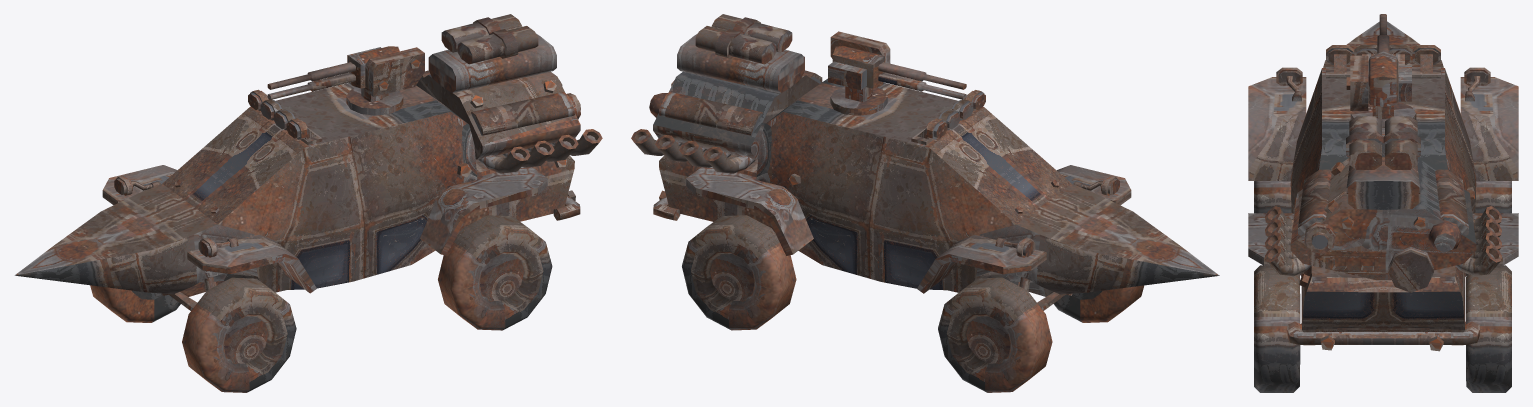
File: ScoutBuggy.fbx
3 views of the same model, side by side, from view 1: azimuth 30°, elevation 25°; view 2: azimuth 150°, elevation 25°; view 3: azimuth 270°, elevation 25° (orthographic). The views are drawn at different scales.
Visible parts, largest first — view 1: ScoutBuggy_Body, ScoutBuggy_Wheel_FrontL, ScoutBuggy_Wheel_BackL, ScoutBuggy_Turret, ScoutBuggy_Wheel_FrontR; view 2: ScoutBuggy_Body, ScoutBuggy_Wheel_FrontR, ScoutBuggy_Wheel_BackR, ScoutBuggy_Turret, ScoutBuggy_Wheel_FrontL; view 3: ScoutBuggy_Body, ScoutBuggy_Wheel_BackL, ScoutBuggy_Wheel_BackR, ScoutBuggy_Turret, ScoutBuggy_Wheel_FrontL, ScoutBuggy_Wheel_FrontR.
Boxes of the visible parts, bbox=[...] form: ScoutBuggy_Body: bbox=[14, 14, 602, 310]; ScoutBuggy_Wheel_FrontL: bbox=[182, 277, 296, 392]; ScoutBuggy_Wheel_BackL: bbox=[438, 215, 552, 330]; ScoutBuggy_Turret: bbox=[267, 46, 424, 115]; ScoutBuggy_Wheel_FrontR: bbox=[90, 285, 180, 322]; ScoutBuggy_Body: bbox=[631, 14, 1219, 310]; ScoutBuggy_Wheel_FrontR: bbox=[938, 277, 1052, 392]; ScoutBuggy_Wheel_BackR: bbox=[682, 215, 796, 330]; ScoutBuggy_Turret: bbox=[828, 31, 966, 115]; ScoutBuggy_Wheel_FrontL: bbox=[1053, 285, 1144, 322]; ScoutBuggy_Body: bbox=[1248, 21, 1518, 351]; ScoutBuggy_Wheel_BackL: bbox=[1254, 265, 1300, 392]; ScoutBuggy_Wheel_BackR: bbox=[1466, 265, 1511, 392]; ScoutBuggy_Turret: bbox=[1346, 14, 1416, 127]; ScoutBuggy_Wheel_FrontL: bbox=[1254, 181, 1291, 213]; ScoutBuggy_Wheel_FrontR: bbox=[1475, 181, 1511, 213].
Bounding box in the file's own units: 486 × 222 × 190.
